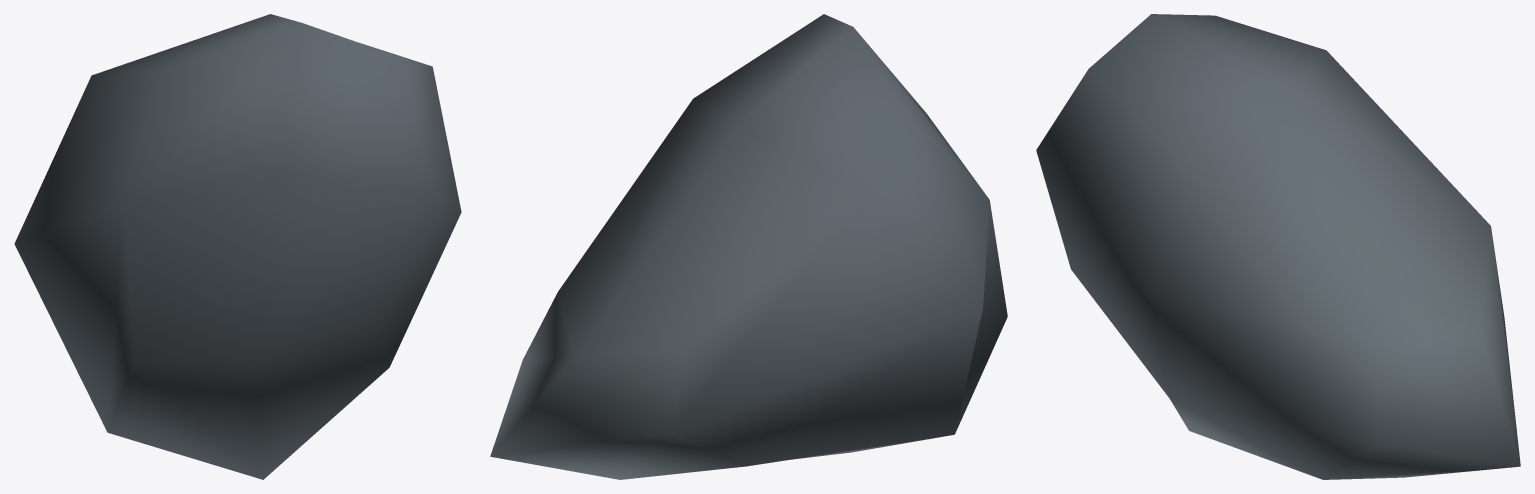
File: rock1.fbx
3 renders of one model, left to right at view 1: azimuth 30°, elevation 25°; view 2: azimuth 150°, elevation 25°; view 3: azimuth 270°, elevation 25°, orthographic. The views are drawn at different scales.
Parts seen in each view (by area): view 1: Cube.002; view 2: Cube.002; view 3: Cube.002.
Part boxes in pixels (<box>): Cube.002: <box>14,14,461,479</box>; Cube.002: <box>490,14,1007,479</box>; Cube.002: <box>1036,14,1520,479</box>.
Bounding box in the file's own units: 446 × 423 × 438.
1 material, 1 textured.
